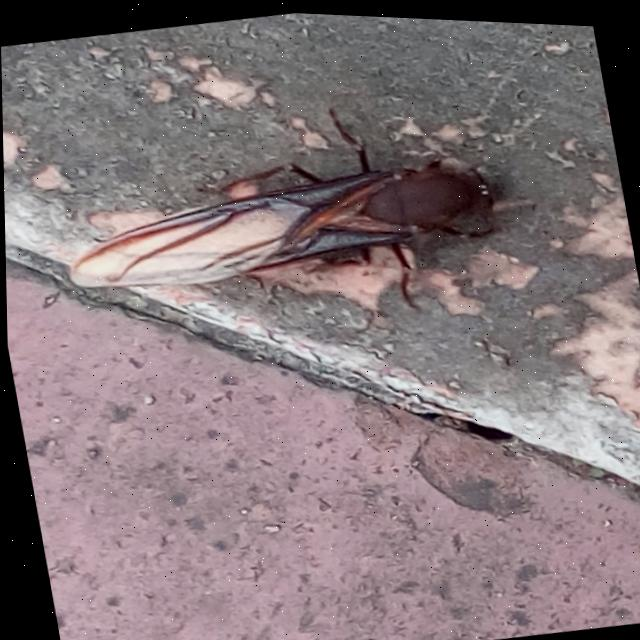Alive-Female-Alate: (43, 71, 517, 366)
